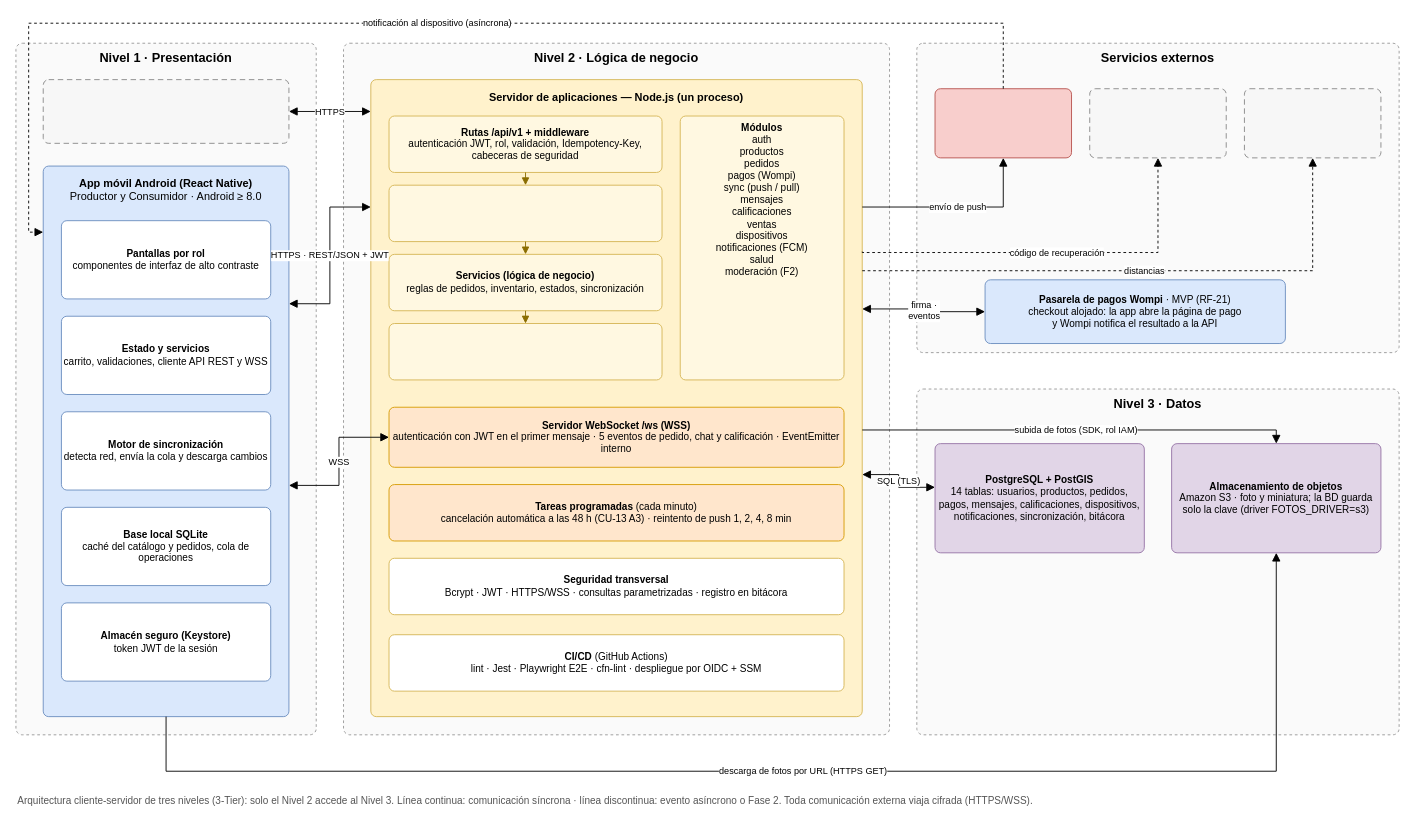
This 1415x833 diagram has some shape labels left out. Each missing label, with the centre of its shape:
Controladores traducen HTTP ↔ casos de uso: [525,213]
Correo SMTP · Fase 2: [1157,123]
Geolocalización API de mapas · Fase 2: [1312,123]
Notificaciones push FCM · MVP (RF-16a): [1003,123]
Panel web de administración Administrador · Fase 2: [165,111]
Repositorios SQL parametrizado y transacciones (pool de conexiones): [525,351]
